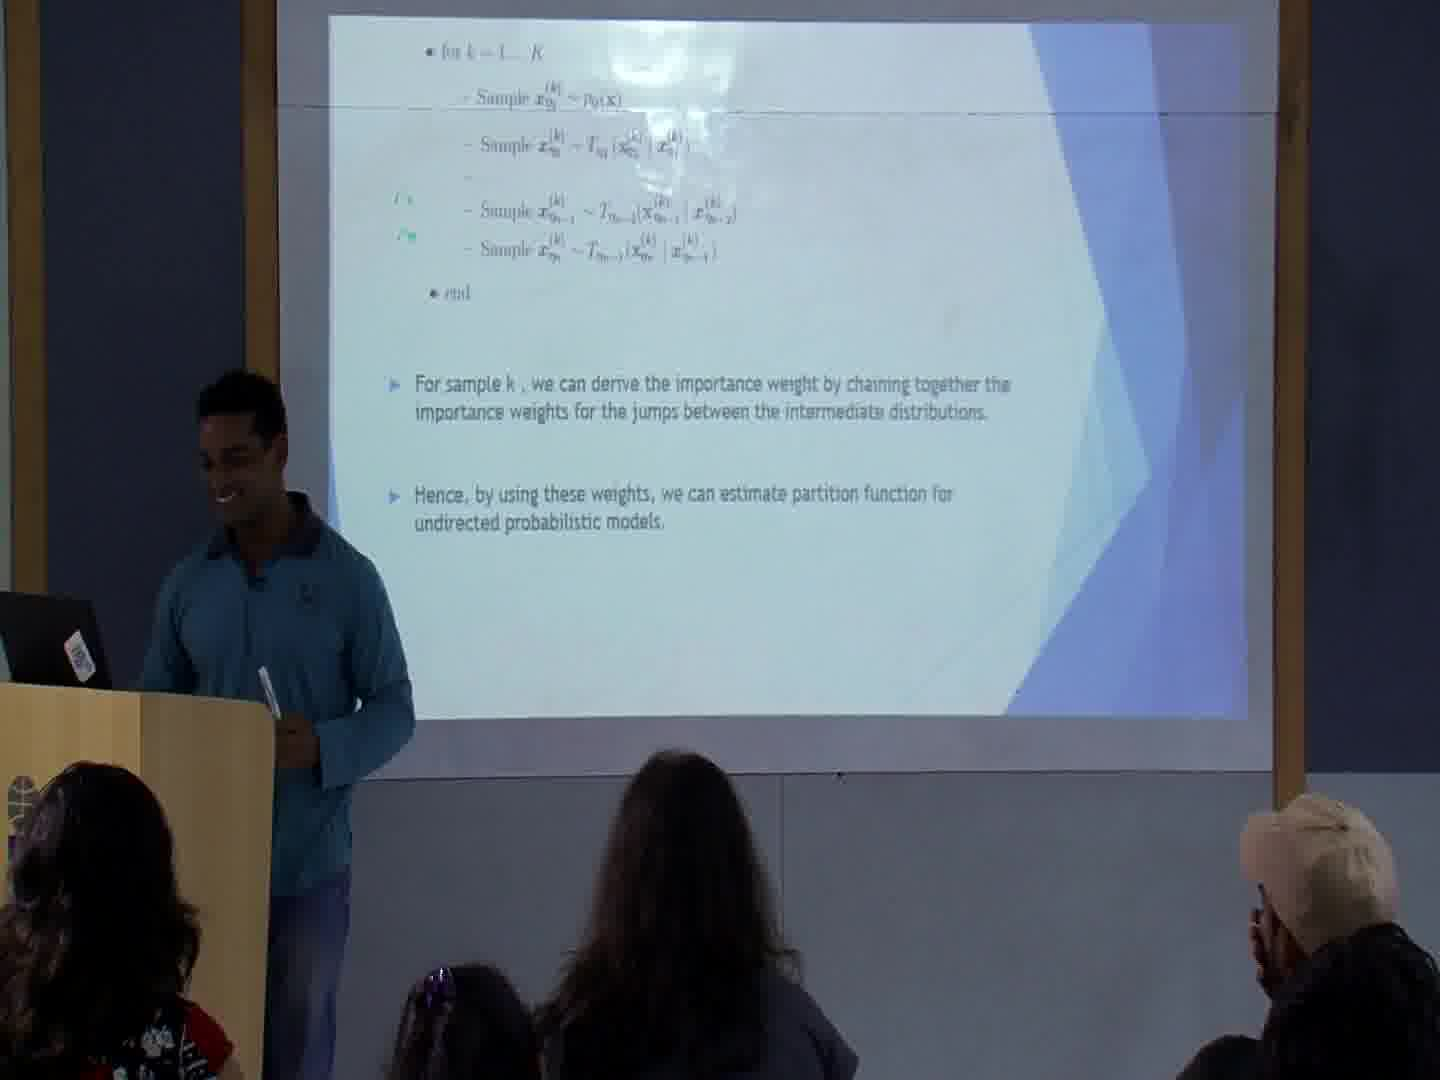slide: (328, 12, 1248, 717)
